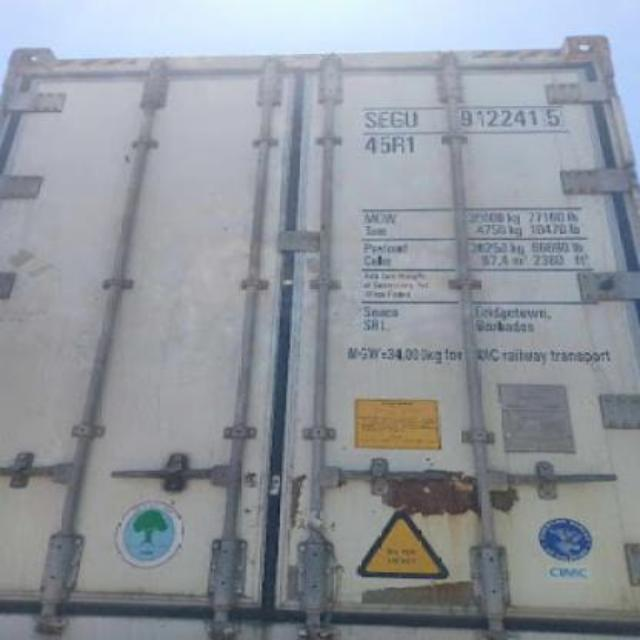1: (528, 109, 540, 127), (475, 110, 485, 128)
2: (486, 110, 500, 126), (502, 109, 514, 127)
4: (514, 109, 528, 128)
5: (546, 108, 560, 126)
9: (460, 109, 472, 127)
E: (378, 109, 390, 129)
G: (391, 109, 404, 127)
S: (364, 109, 376, 127)
U: (404, 111, 418, 127)
